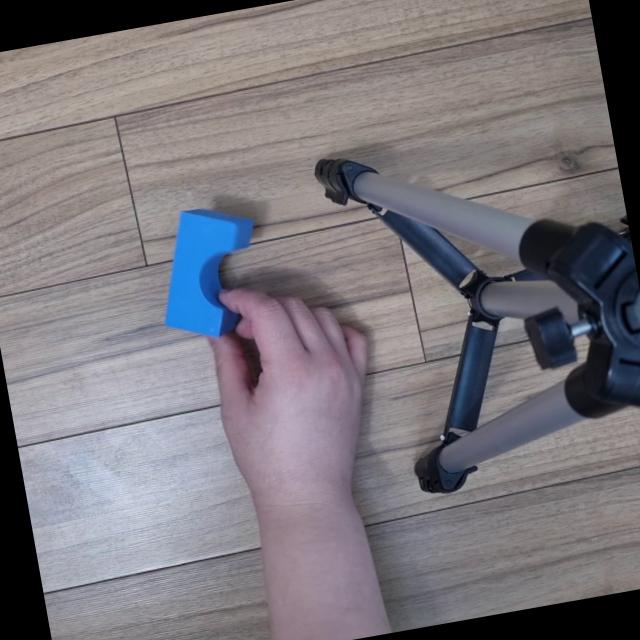block: (145, 189, 270, 348)
hand: (148, 240, 415, 540)
